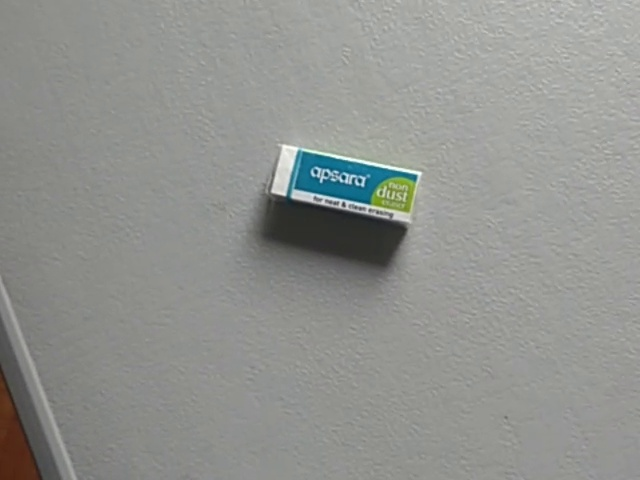Eraser: (260, 139, 425, 230)
